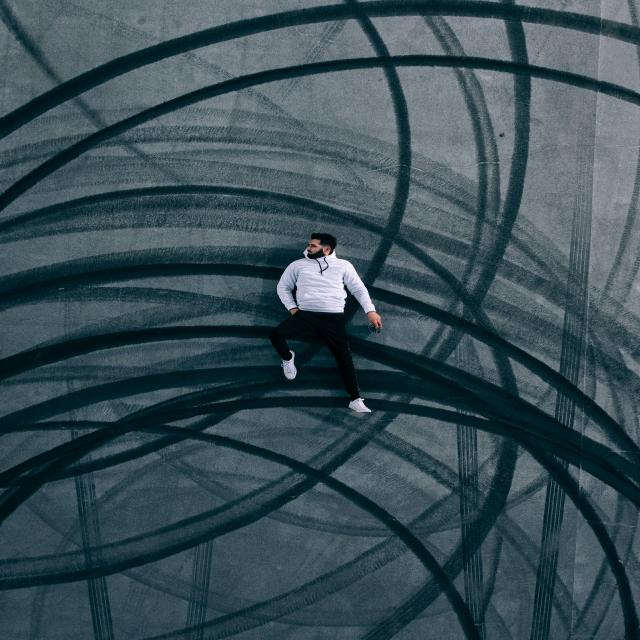adult: (277, 235, 381, 409)
